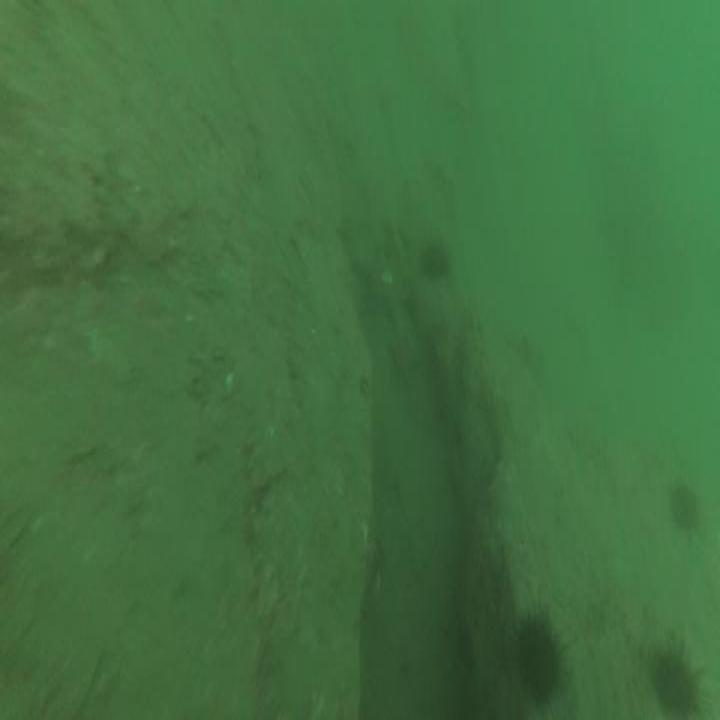echinus: (514, 599, 565, 713), (646, 633, 704, 720), (666, 473, 704, 540), (416, 231, 454, 288)
